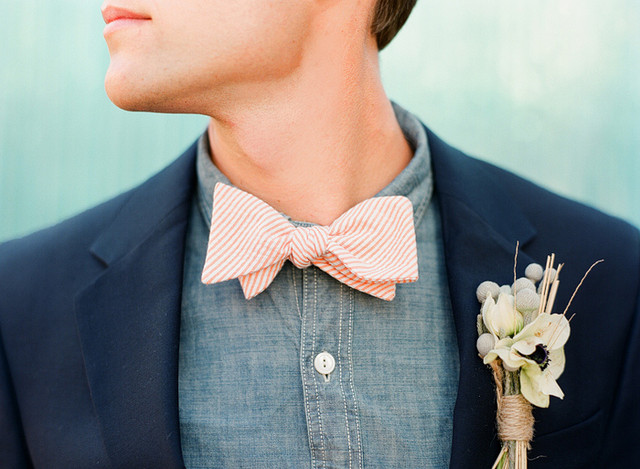bow: (194, 174, 434, 320)
